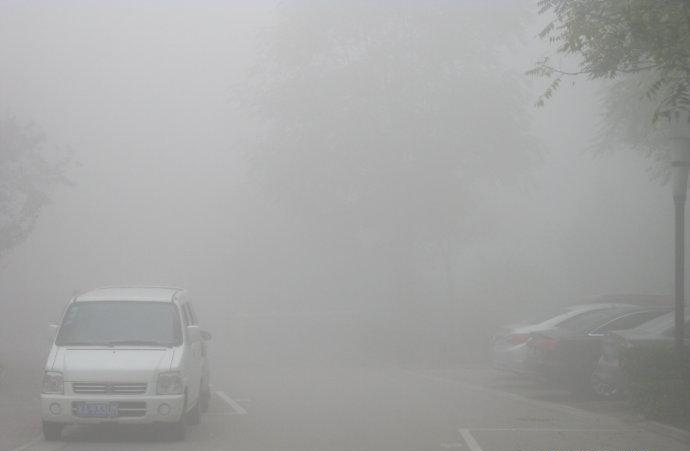car: (37, 283, 211, 440), (487, 297, 689, 393), (526, 307, 690, 403), (592, 307, 690, 421)
